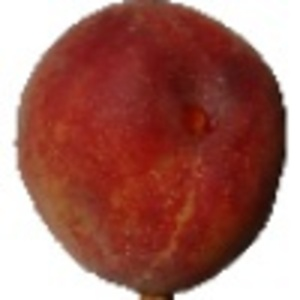pêssego: (2, 1, 289, 300)
